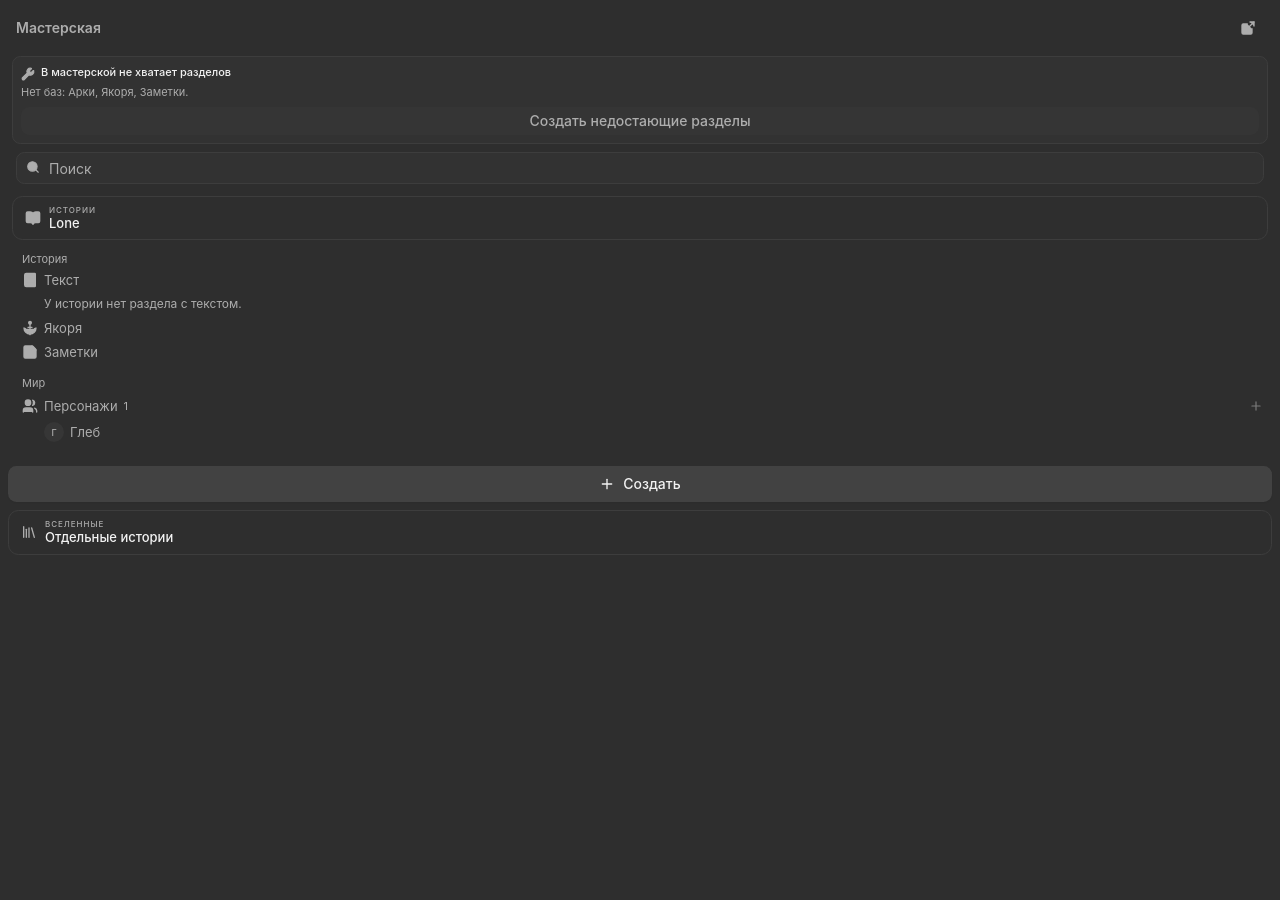
Test case: CreativePanel: the stories above the lists, the universes below them › the card of the universes › chooses a universe: with no story picked yet the lists show it through its stories
Expected: the button "Г Глеб" is shown, [8,418,1272,446]
Click the dropdown named "Вселенная".
click(75, 524)  # box [9,511,1271,554]
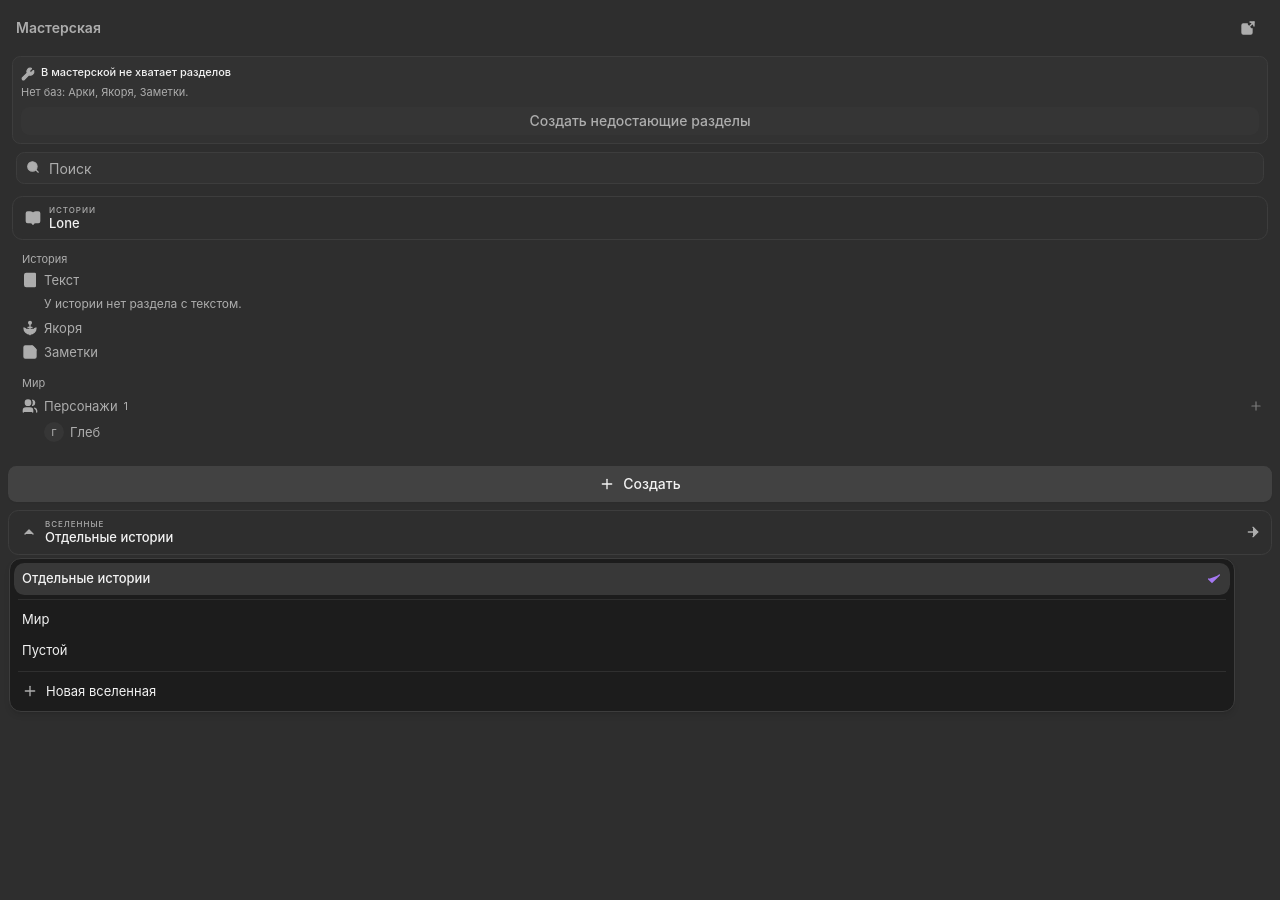
Click the option "Мир".
click(36, 618)  # box [14,604,1230,635]
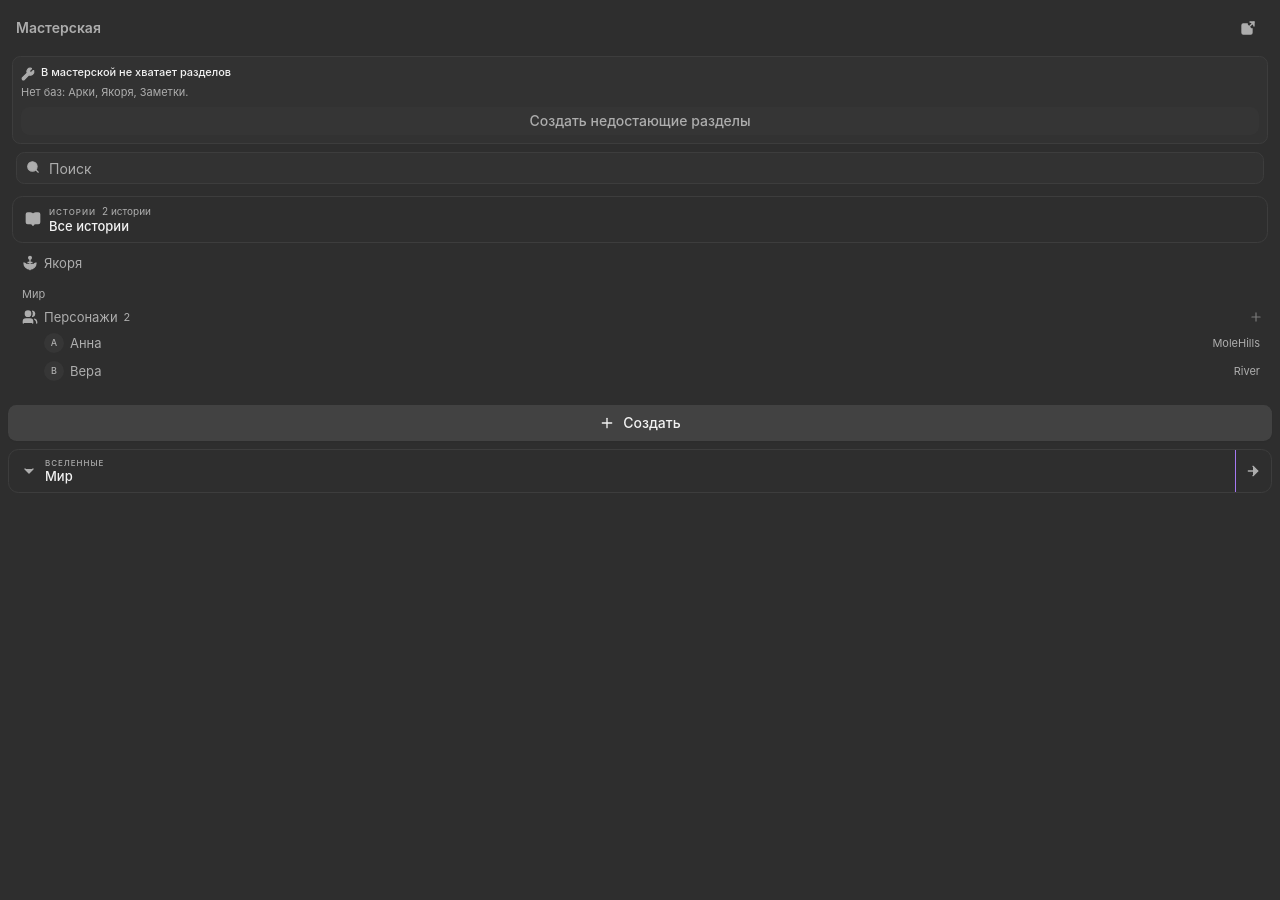
Now the button "В Вера River" is shown, box [8,357,1272,385]
